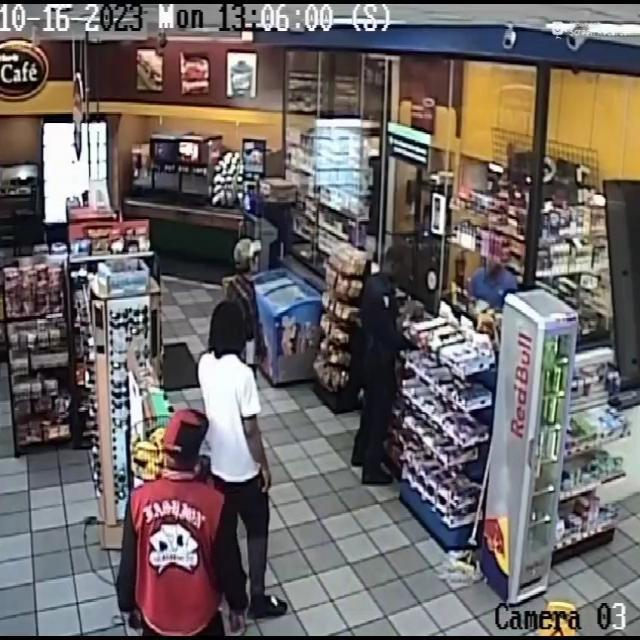Normal: (191, 296, 292, 622), (115, 409, 254, 640), (352, 239, 415, 487), (212, 238, 267, 352)
